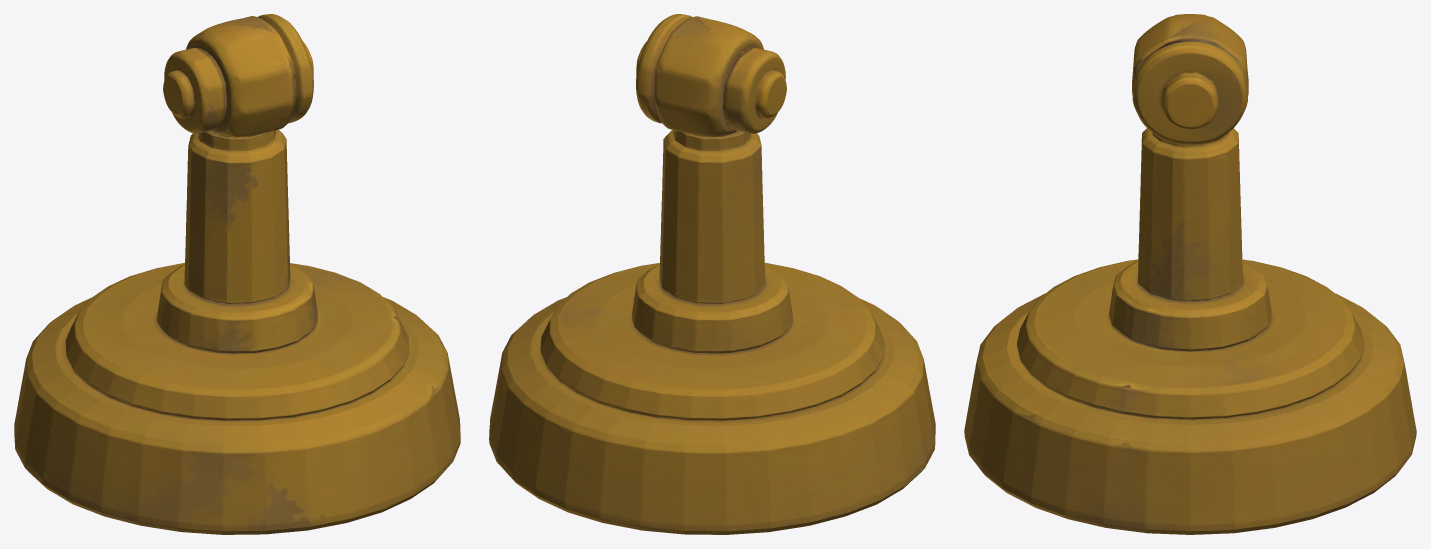
Rendered from ayna_taban.glb.
The picture shows the model from 3 angles, left to right: view 1: azimuth 30°, elevation 25°; view 2: azimuth 150°, elevation 25°; view 3: azimuth 270°, elevation 25°; orthographic projection.
Visible parts, largest first — view 1: tripo_node_171c5f2f-5837-44f2-8a84-5fbef79fc845; view 2: tripo_node_171c5f2f-5837-44f2-8a84-5fbef79fc845; view 3: tripo_node_171c5f2f-5837-44f2-8a84-5fbef79fc845.
Boxes of the visible parts, bbox=[...] form: tripo_node_171c5f2f-5837-44f2-8a84-5fbef79fc845: bbox=[14, 14, 460, 534]; tripo_node_171c5f2f-5837-44f2-8a84-5fbef79fc845: bbox=[489, 14, 935, 534]; tripo_node_171c5f2f-5837-44f2-8a84-5fbef79fc845: bbox=[964, 14, 1416, 534].
Size of the model in its own units: 0.9565 by 0.9797 by 0.954.
Materials: 1 (1 with a texture image).
